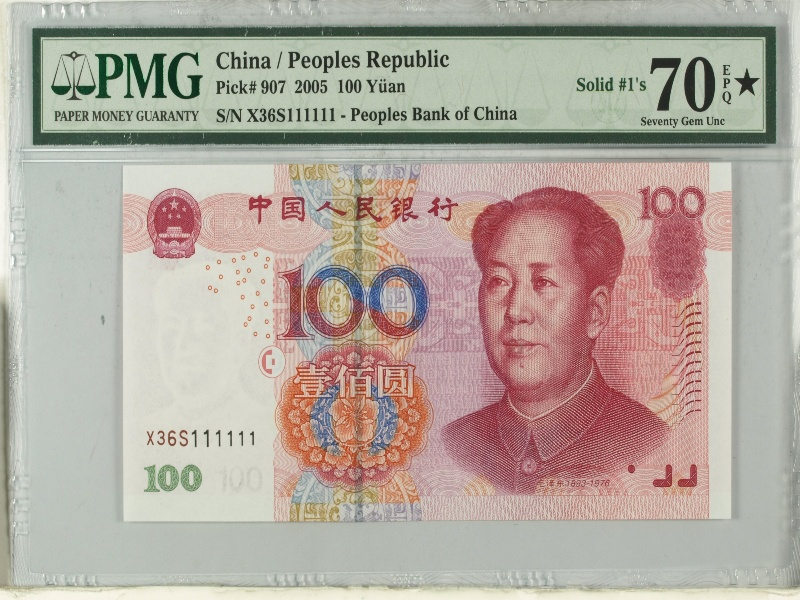papernote: (119, 162, 735, 524)
